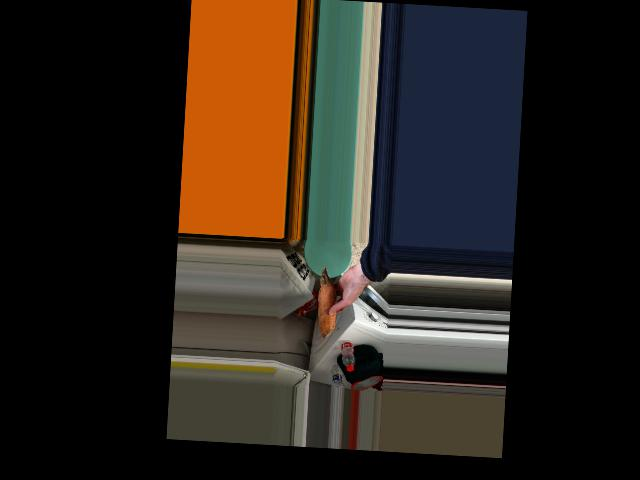sweet_potato: (317, 269, 343, 330)
